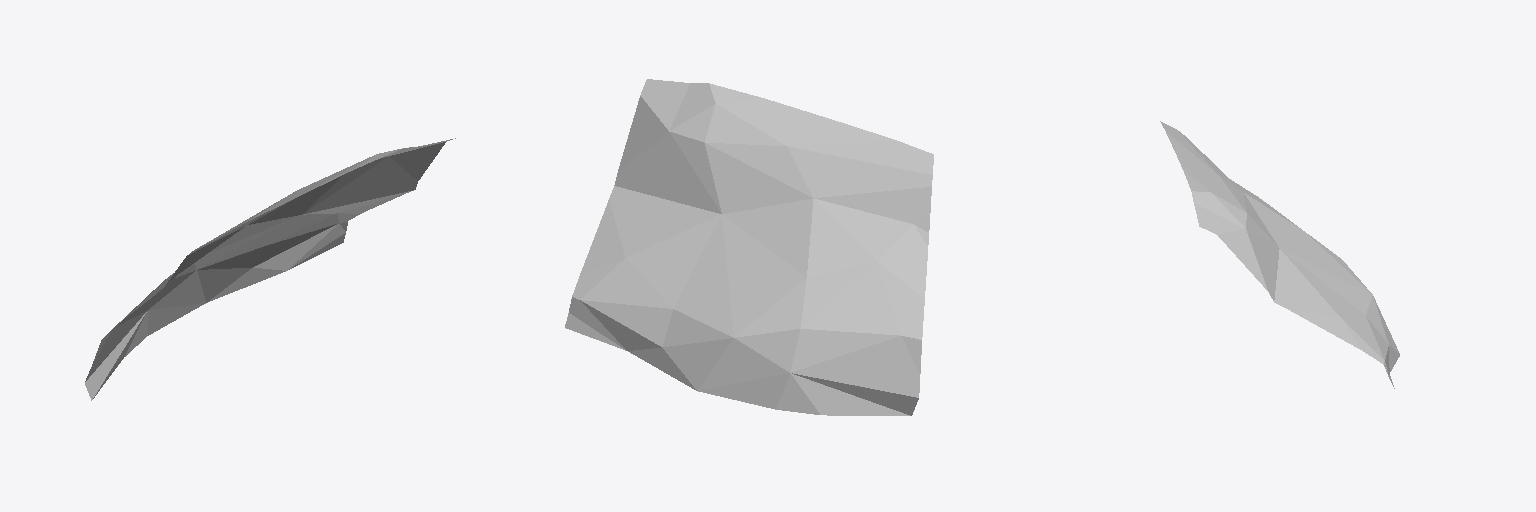
Rendered from HAND_new_118_formatting.obj.
3 views of the same model, side by side, from view 1: azimuth 30°, elevation 25°; view 2: azimuth 150°, elevation 25°; view 3: azimuth 270°, elevation 25° (orthographic).
Size of the model in its own units: 34.42 by 23.46 by 22.24.